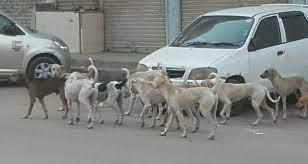normal_dogs: (150, 72, 218, 140), (206, 65, 270, 118), (8, 66, 66, 116), (262, 62, 308, 122), (125, 62, 170, 111), (64, 68, 102, 126), (98, 82, 130, 122), (48, 58, 96, 84)
